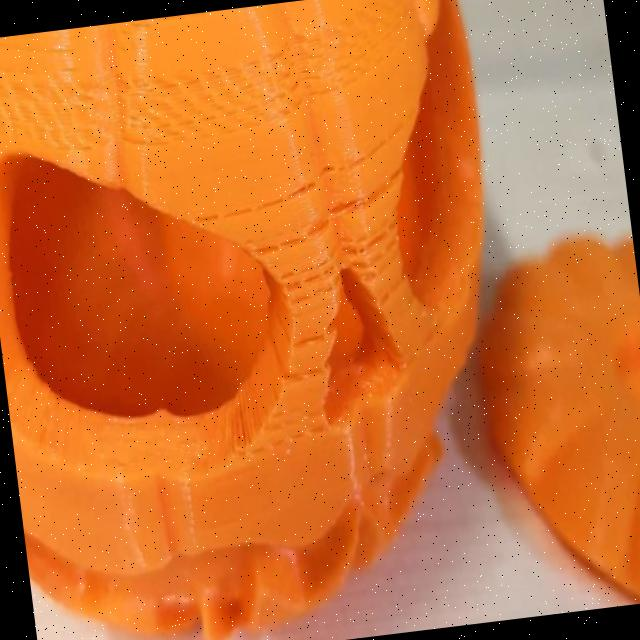cracks: (190, 96, 430, 274), (234, 140, 406, 270), (214, 315, 350, 472)
